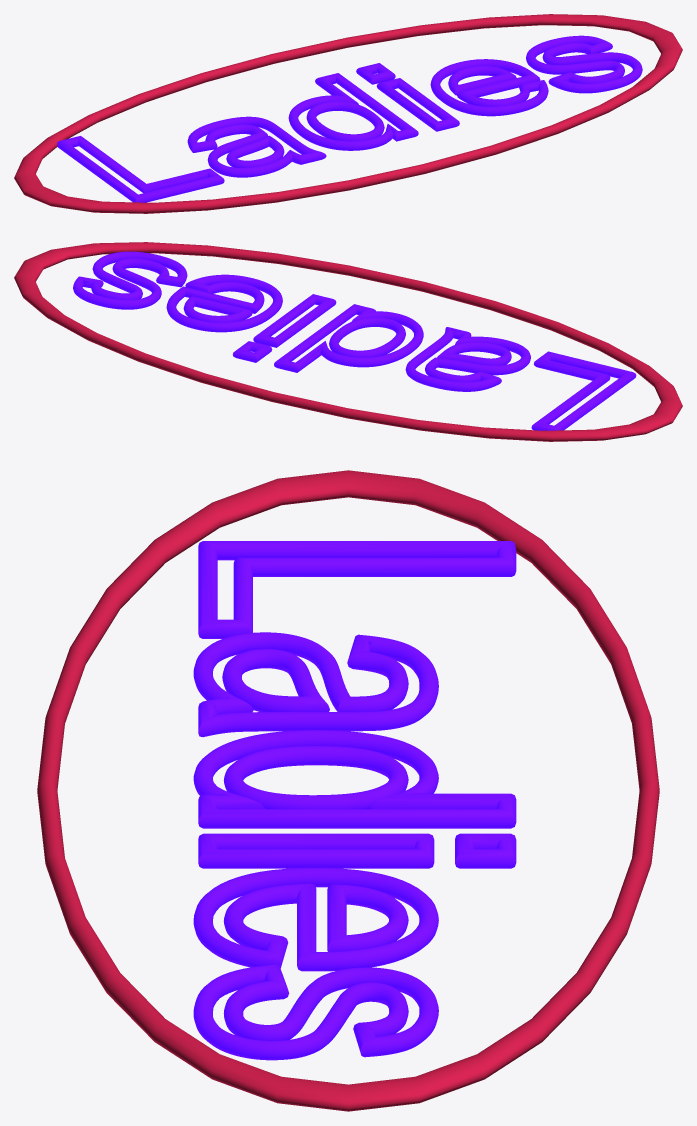
The model's file is Ladies.FBX.
The picture shows the model from 3 angles, top to bottom: view 1: azimuth 30°, elevation 25°; view 2: azimuth 150°, elevation 25°; view 3: azimuth 270°, elevation 25°; orthographic projection. The views are drawn at different scales.
Visible parts, largest first — view 1: Text002, Circle001; view 2: Text002, Circle001; view 3: Text002, Circle001.
Boxes of the visible parts, box(x1,y1,x2,y2) form: Text002: box(57, 35, 642, 202); Circle001: box(14, 14, 682, 213); Text002: box(73, 251, 636, 430); Circle001: box(14, 242, 682, 441); Text002: box(193, 541, 516, 1060); Circle001: box(37, 470, 659, 1111).
Bounding box in the file's own units: 77.39 × 1.04 × 32.08.
